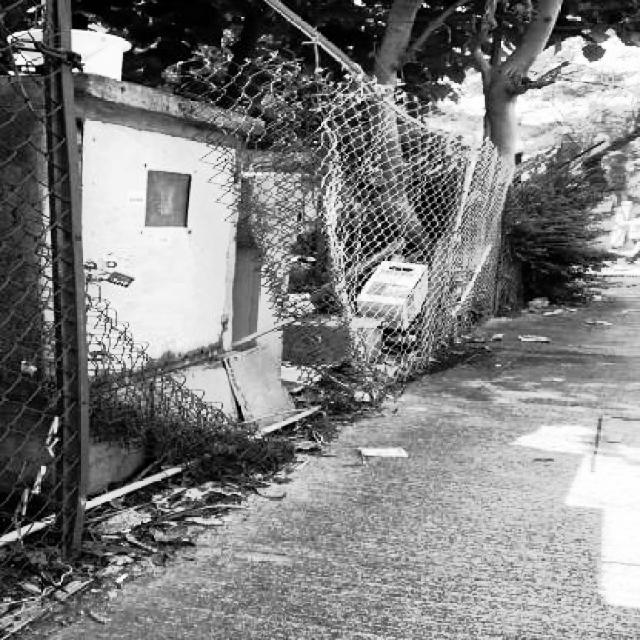anomaly-fence: (25, 14, 462, 476)
